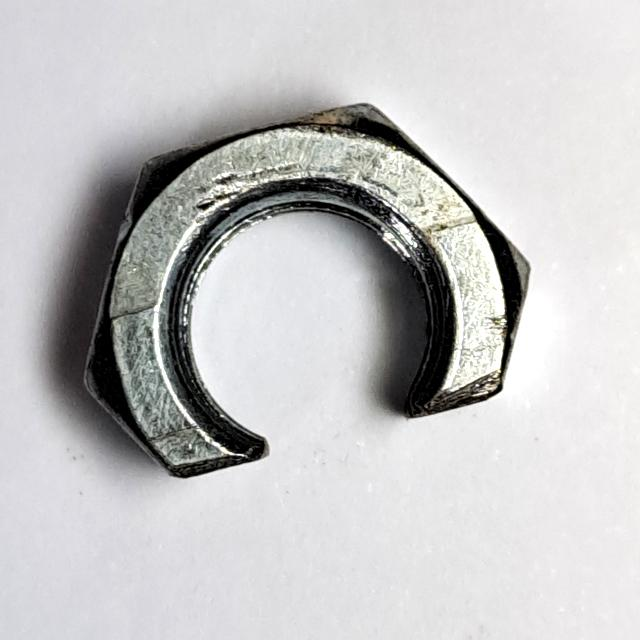Fracture: (74, 87, 539, 495)
